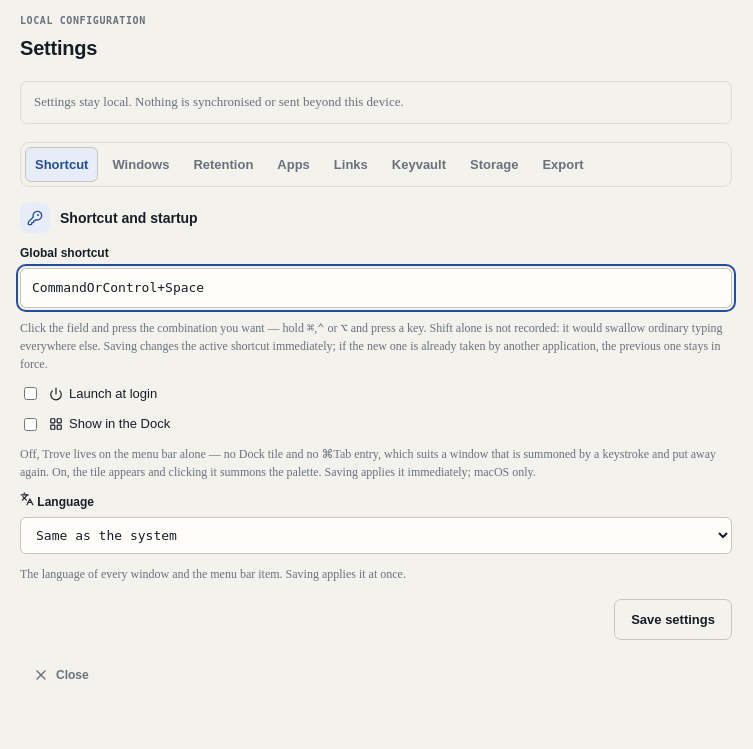
Test: keyvault section › shows the fingerprint while waiting, because approving without it proves nothing
Click the tab "Keyvault" at point(419, 165), box top-left (382, 147), bottom-right (456, 182)
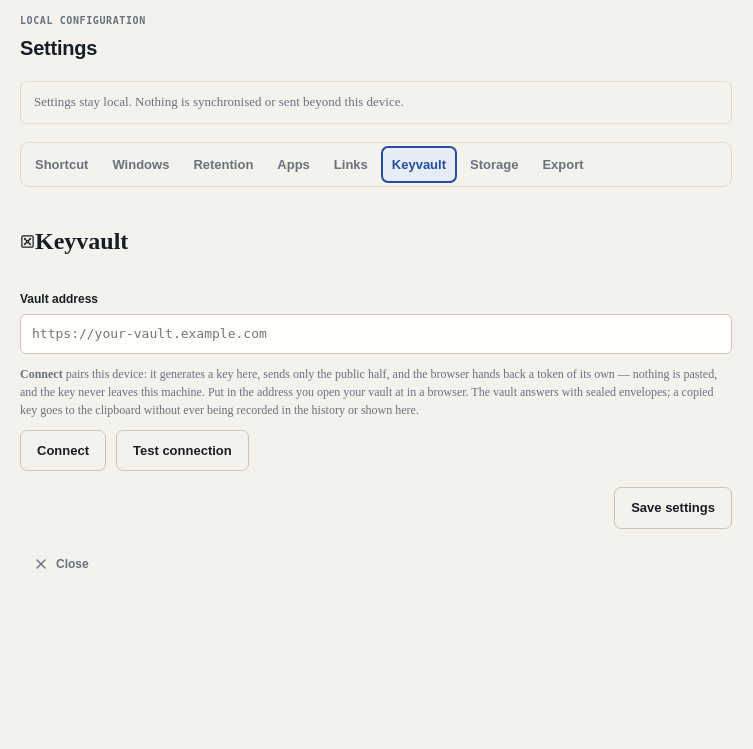
Type "https://vault.example.invalid" into the field labelled "Vault address" at point(376, 334), box top-left (20, 314), bottom-right (732, 354)
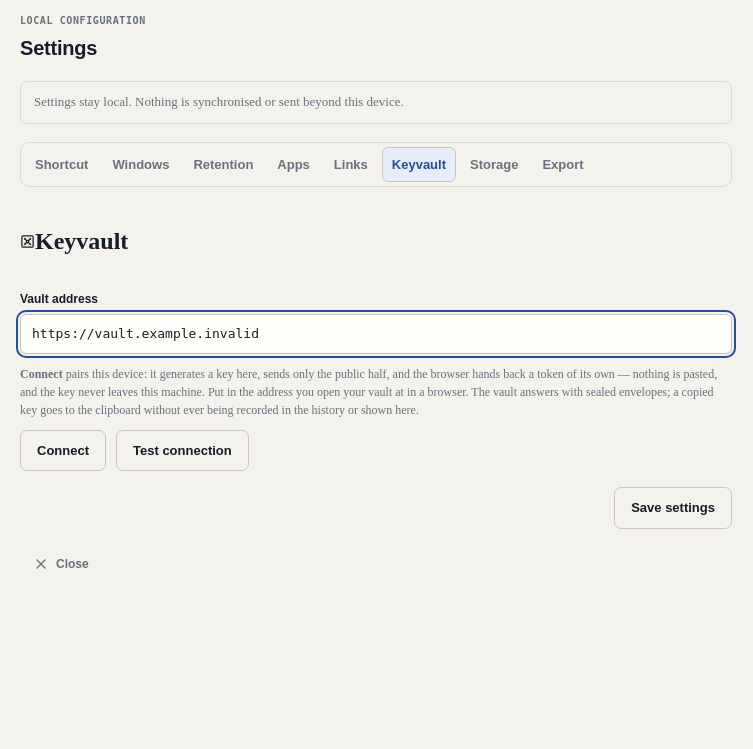
Click the button "Connect" at point(63, 450), box top-left (20, 430), bottom-right (106, 471)
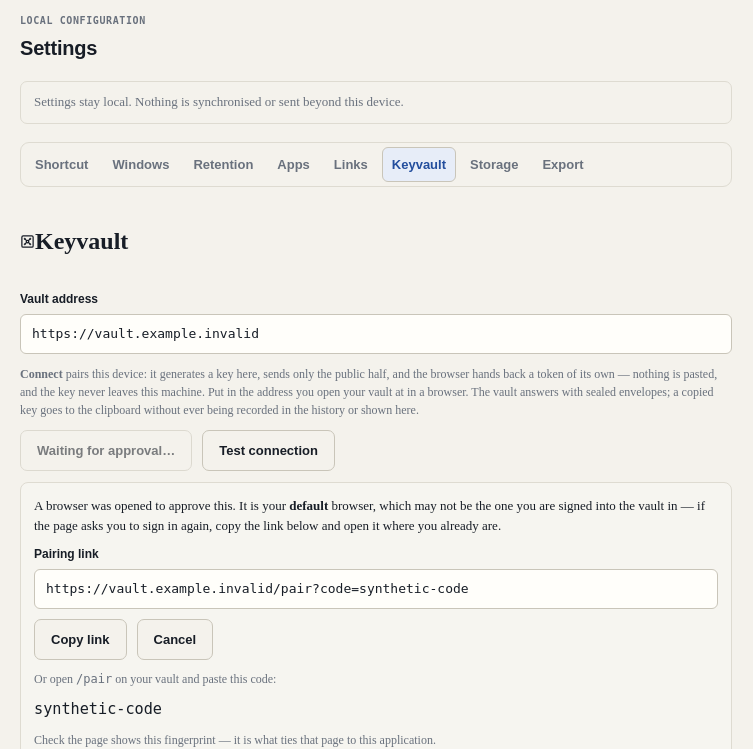
Expected: the button "Waiting for approval…" is disabled, top-left (20, 430), bottom-right (192, 471)
